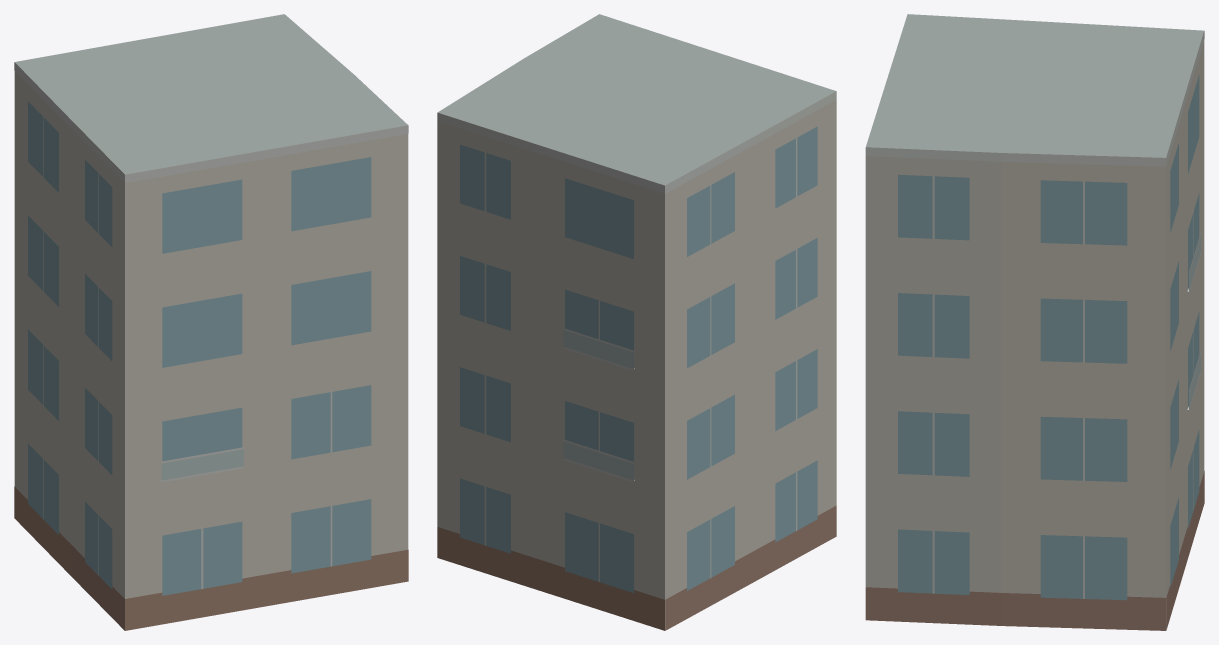
The model's file is survey-upis-32819221.glb.
3 renders of one model, left to right at view 1: azimuth 30°, elevation 25°; view 2: azimuth 150°, elevation 25°; view 3: azimuth 270°, elevation 25°, orthographic. The views are drawn at different scales.
Visible parts, largest first — view 1: survey-upis-32819221.tmp; view 2: survey-upis-32819221.tmp; view 3: survey-upis-32819221.tmp.
Boxes of the visible parts, x1,y1,x2,y2 form: survey-upis-32819221.tmp: (14,14,408,630); survey-upis-32819221.tmp: (437,14,836,630); survey-upis-32819221.tmp: (865,14,1204,630).
Bounding box in the file's own units: 8.49 × 13 × 8.45.
